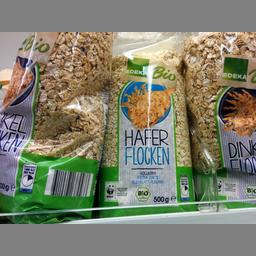cereal: (0, 32, 105, 205), (102, 54, 194, 212), (184, 32, 251, 199)
